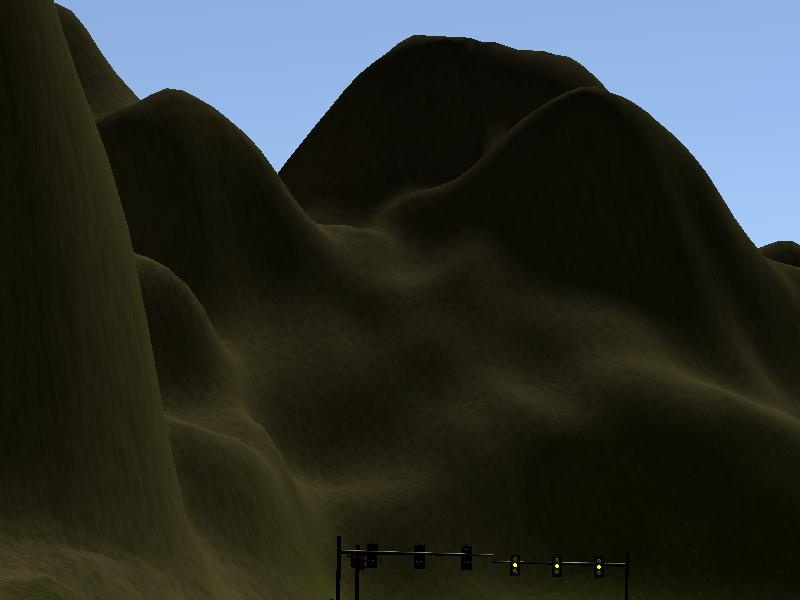YELLOW: (549, 551, 563, 579), (509, 551, 521, 577), (592, 552, 604, 578)
